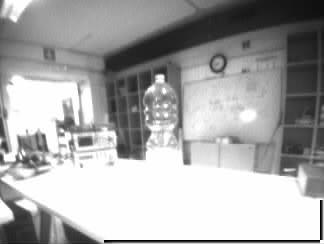Bottle: (144, 73, 181, 170)
